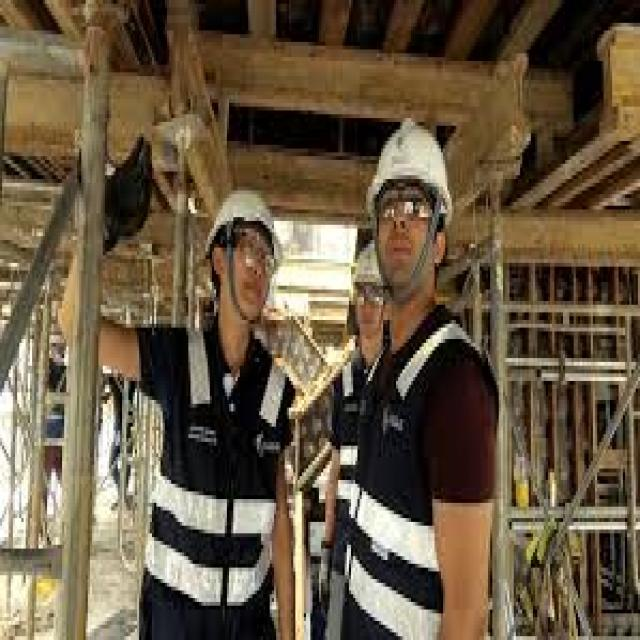Reflective-Jacket: (355, 313, 503, 640), (131, 316, 289, 617), (326, 340, 412, 601)
Safety-Helmet: (362, 110, 460, 225), (197, 172, 293, 274)
